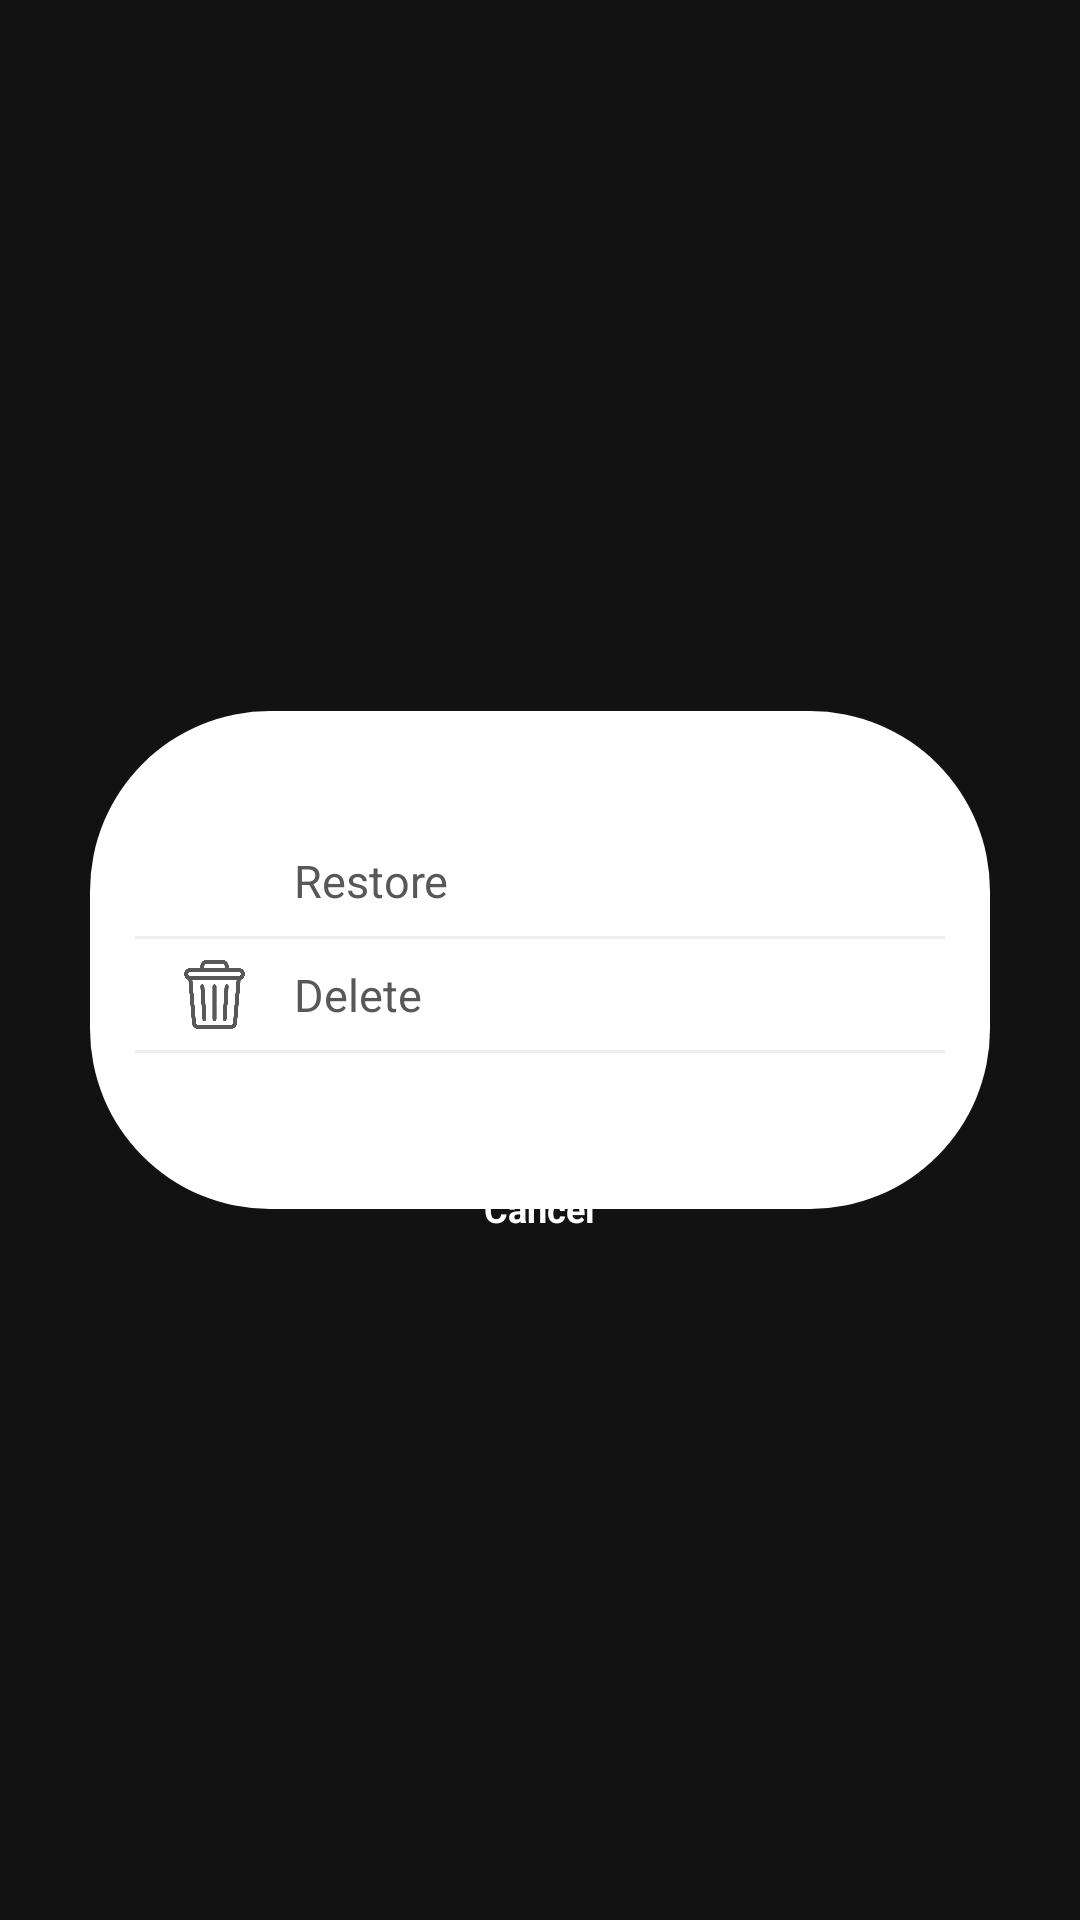

Icons on this 1080 × 1920 Android screen, each with its box as rect(x1, y1, x2, y2):
trash: rect(184, 960, 245, 1029)
